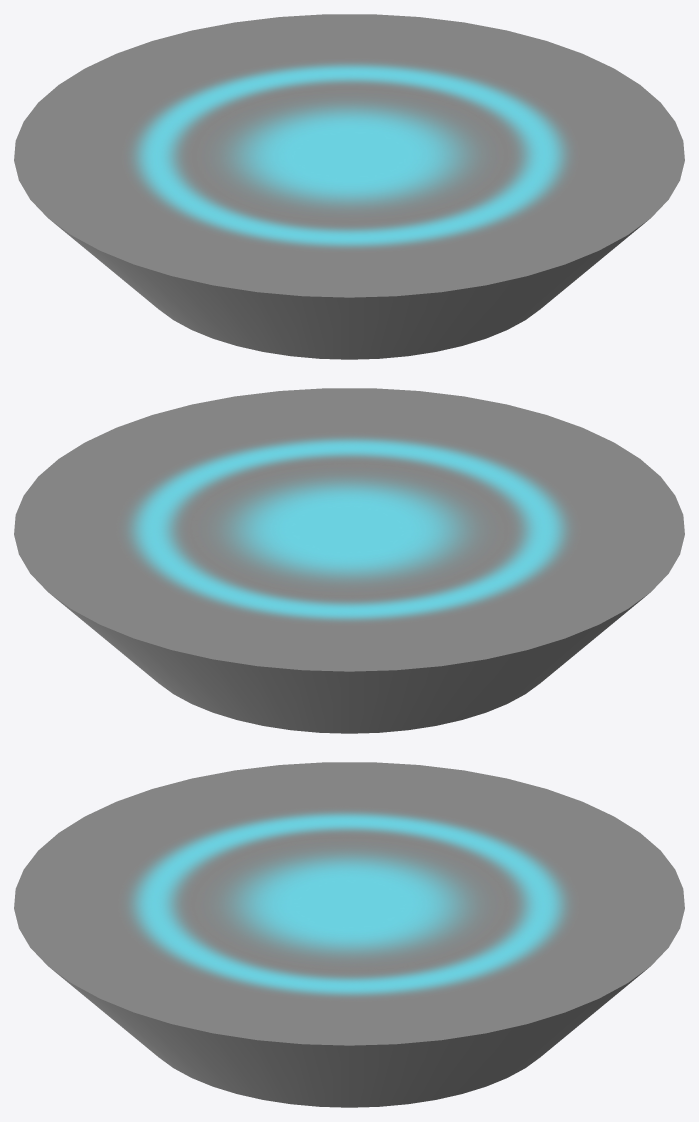
The model's file is Lattia.FBX.
3 views of the same model, one above another, from view 1: azimuth 30°, elevation 25°; view 2: azimuth 150°, elevation 25°; view 3: azimuth 270°, elevation 25° (orthographic).
Visible parts, largest first — view 1: Lattia; view 2: Lattia; view 3: Lattia.
Boxes of the visible parts, <box> form: Lattia: <box>14,14,684,359</box>; Lattia: <box>14,388,684,733</box>; Lattia: <box>14,762,684,1107</box>.
Bounding box in the file's own units: 78.64 × 14.78 × 78.69.
